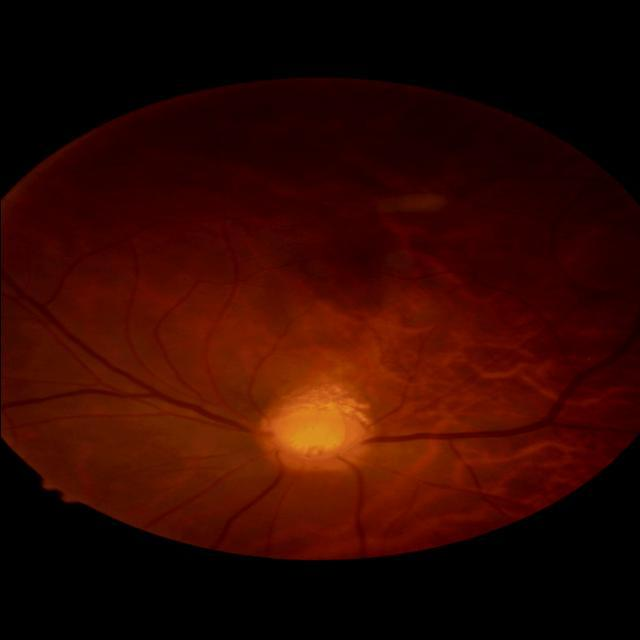cup: (269, 407, 365, 462)
disk: (255, 401, 371, 475)
